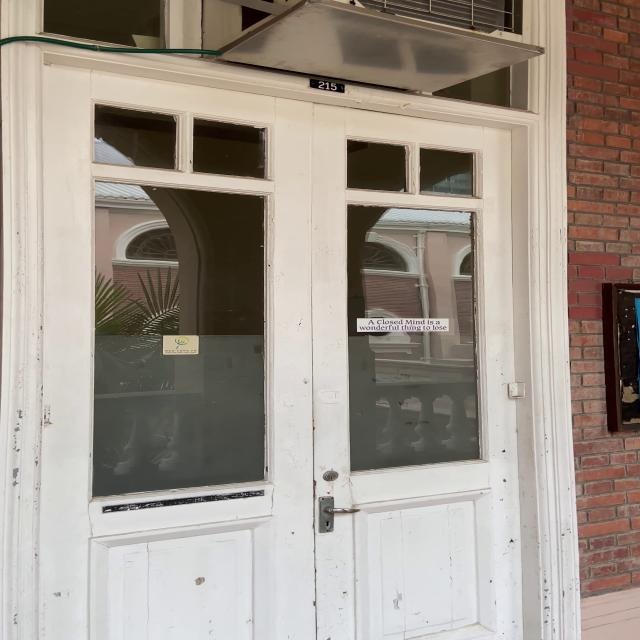room215: (309, 77, 346, 95)
